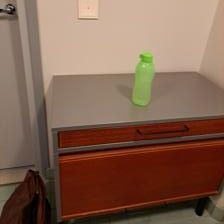bottle: (130, 52, 158, 107)
